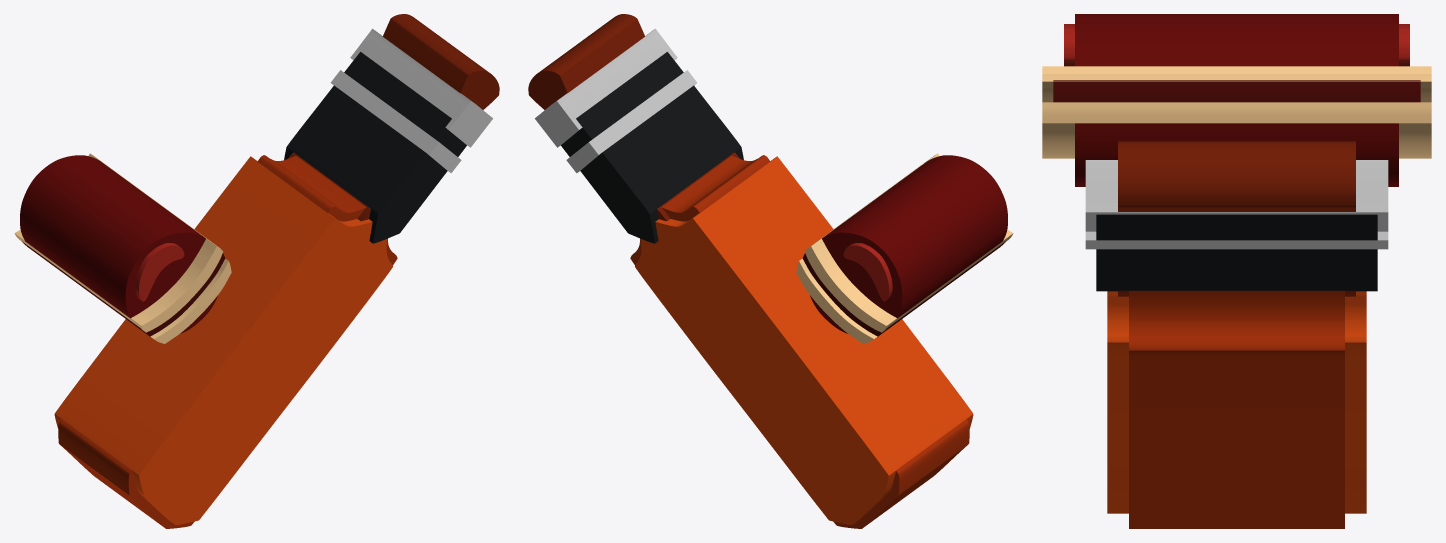
3 renders of one model, left to right at view 1: azimuth 30°, elevation 25°; view 2: azimuth 150°, elevation 25°; view 3: azimuth 270°, elevation 25°, orthographic. The views are drawn at different scales.
Visible parts, largest first — view 1: U+1F3CF_layer02_obj00, U+1F3CF_layer05_obj00, U+1F3CF_layer03_obj00, U+1F3CF_layer00_obj00, U+1F3CF_layer01_obj00, U+1F3CF_layer04_obj01, U+1F3CF_layer08_obj00, U+1F3CF_layer04_obj00, U+1F3CF_layer08_obj01, U+1F3CF_layer06_obj00, U+1F3CF_layer07_obj00; view 2: U+1F3CF_layer02_obj00, U+1F3CF_layer05_obj00, U+1F3CF_layer03_obj00, U+1F3CF_layer00_obj00, U+1F3CF_layer01_obj00, U+1F3CF_layer04_obj01, U+1F3CF_layer08_obj00, U+1F3CF_layer04_obj00, U+1F3CF_layer08_obj01, U+1F3CF_layer06_obj00, U+1F3CF_layer07_obj00; view 3: U+1F3CF_layer00_obj00, U+1F3CF_layer05_obj00, U+1F3CF_layer03_obj00, U+1F3CF_layer01_obj00, U+1F3CF_layer08_obj01, U+1F3CF_layer02_obj00, U+1F3CF_layer07_obj00, U+1F3CF_layer08_obj00, U+1F3CF_layer04_obj01, U+1F3CF_layer04_obj00, U+1F3CF_layer06_obj00.
Part boxes in pixels (box(x1,y1,x2,y2)): U+1F3CF_layer02_obj00: box(54, 156, 392, 524); U+1F3CF_layer05_obj00: box(20, 155, 217, 333); U+1F3CF_layer03_obj00: box(284, 52, 466, 243); U+1F3CF_layer00_obj00: box(58, 155, 397, 528); U+1F3CF_layer01_obj00: box(383, 14, 499, 109); U+1F3CF_layer04_obj01: box(350, 28, 492, 147); U+1F3CF_layer08_obj00: box(14, 153, 223, 332); U+1F3CF_layer04_obj00: box(330, 70, 461, 173); U+1F3CF_layer08_obj01: box(150, 258, 231, 343); U+1F3CF_layer06_obj00: box(135, 243, 184, 301); U+1F3CF_layer07_obj00: box(22, 241, 225, 336); U+1F3CF_layer02_obj00: box(635, 156, 973, 524); U+1F3CF_layer05_obj00: box(810, 155, 1007, 333); U+1F3CF_layer03_obj00: box(561, 52, 743, 243); U+1F3CF_layer00_obj00: box(630, 155, 969, 528); U+1F3CF_layer01_obj00: box(528, 14, 644, 109); U+1F3CF_layer04_obj01: box(535, 28, 677, 147); U+1F3CF_layer08_obj00: box(804, 153, 1013, 332); U+1F3CF_layer04_obj00: box(566, 70, 697, 173); U+1F3CF_layer08_obj01: box(796, 258, 877, 343); U+1F3CF_layer06_obj00: box(843, 243, 892, 301); U+1F3CF_layer07_obj00: box(802, 241, 1005, 336); U+1F3CF_layer00_obj00: box(1129, 291, 1344, 528); U+1F3CF_layer05_obj00: box(1075, 14, 1398, 186); U+1F3CF_layer03_obj00: box(1096, 214, 1377, 291); U+1F3CF_layer01_obj00: box(1118, 141, 1355, 211); U+1F3CF_layer08_obj01: box(1042, 102, 1431, 158); U+1F3CF_layer02_obj00: box(1107, 291, 1366, 513); U+1F3CF_layer07_obj00: box(1053, 80, 1420, 102); U+1F3CF_layer08_obj00: box(1042, 66, 1431, 102); U+1F3CF_layer04_obj01: box(1085, 160, 1388, 231); U+1F3CF_layer04_obj00: box(1085, 231, 1388, 249); U+1F3CF_layer06_obj00: box(1064, 24, 1409, 66).
Bounding box in the file's own units: 0.3177 × 0.3038 × 0.18.
